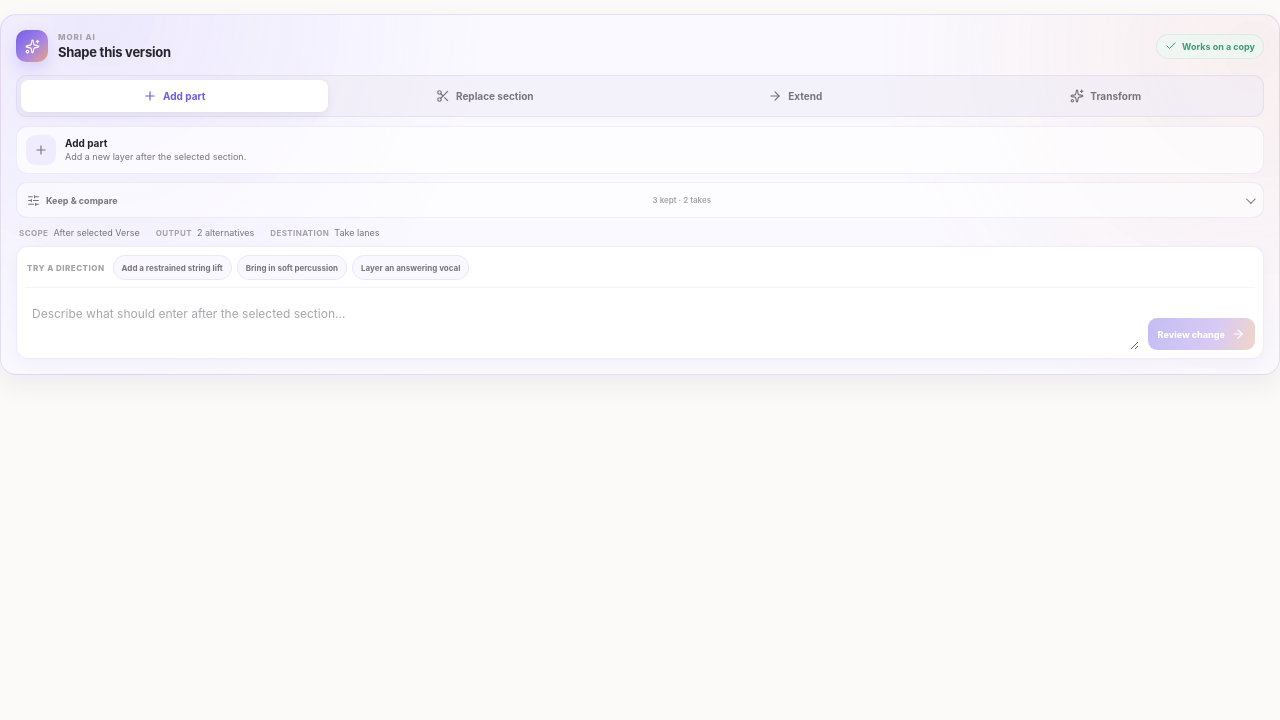
Studio AI composer › explains what each AI task does before the user writes an instruction
The image size is (1280, 720).
expect the text "Add a new layer after the selected section." is shown: met, box [65,151,246,162]
Click the button "Transform". click: (1106, 96)
box: [952,80,1259,112]
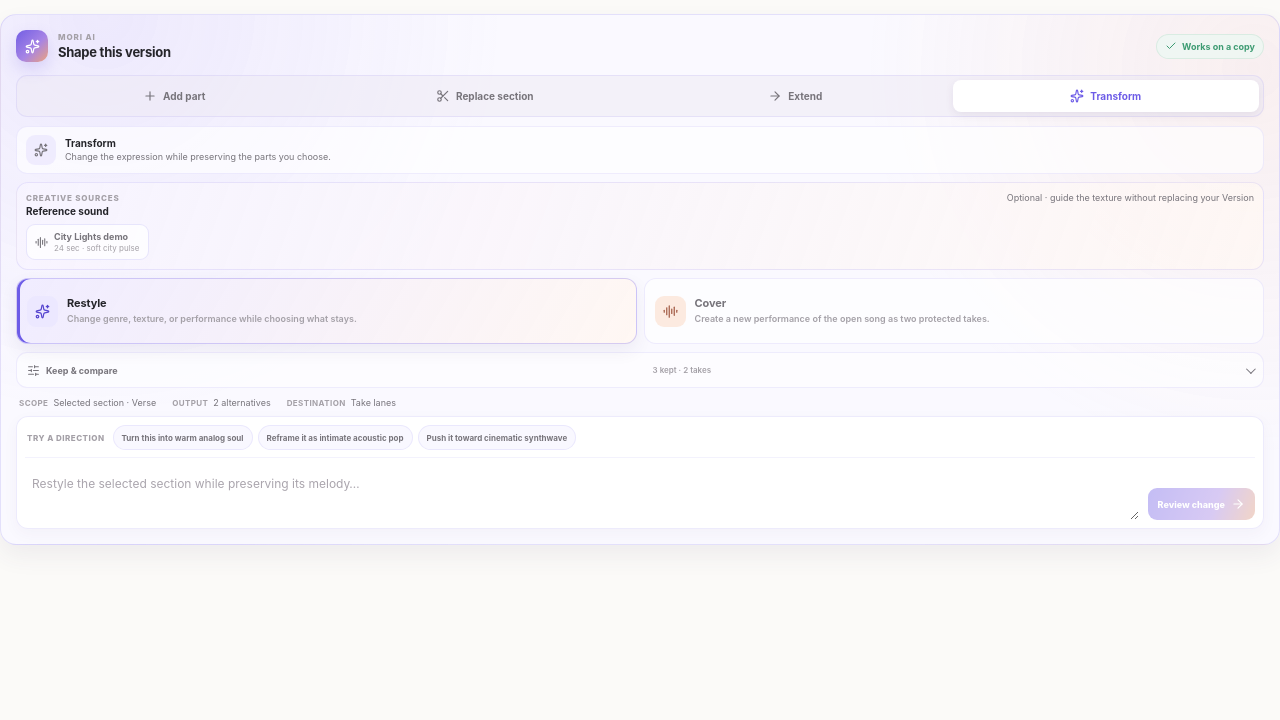
expect the text "Change the expression while preserving the parts you choose." is shown: met, box [65,151,331,162]
